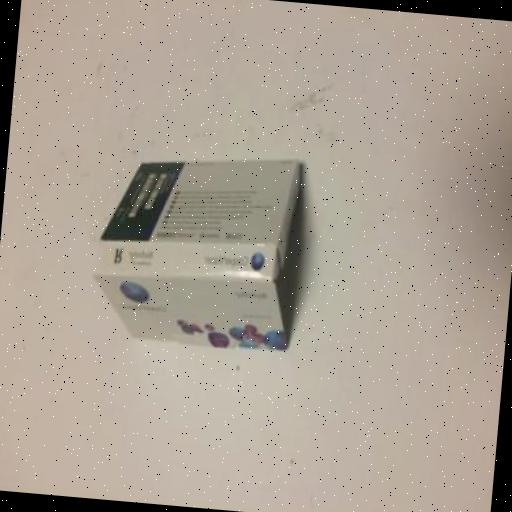cardboard: (88, 146, 302, 355)
